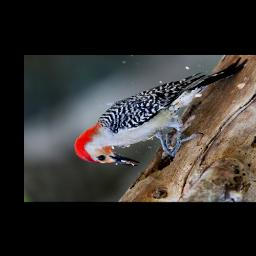Woodpecker: (75, 60, 246, 166)
